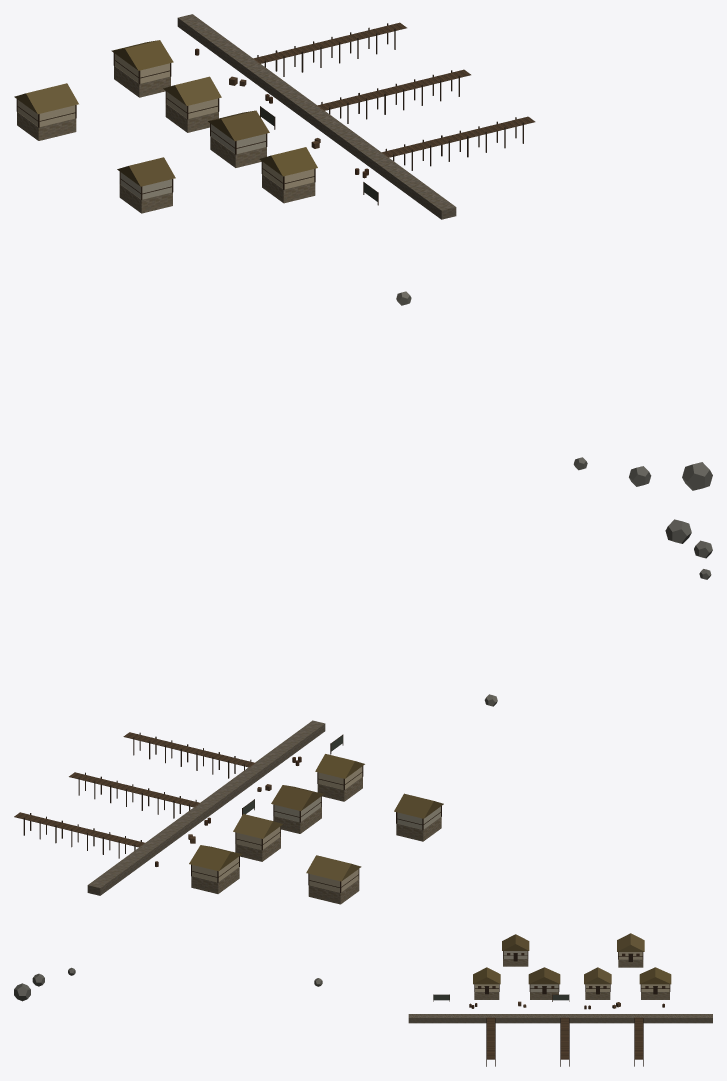
File: puerto.glb
The picture shows the model from 3 angles, top to bottom: view 1: azimuth 30°, elevation 25°; view 2: azimuth 150°, elevation 25°; view 3: azimuth 270°, elevation 25°; orthographic projection. The views are drawn at different scales.
Parts seen in each view (by area): view 1: puerto-1, puerto-0; view 2: puerto-1, puerto-0; view 3: puerto-1, puerto-0.
Boxes of the visible parts, <box> form: puerto-1: <box>14,22,712,490</box>; puerto-0: <box>17,14,456,219</box>; puerto-1: <box>14,519,712,892</box>; puerto-0: <box>87,720,441,904</box>; puerto-1: <box>14,933,671,1066</box>; puerto-0: <box>408,959,712,1023</box>.
Size of the model in its own units: 62.34 by 7.7 by 170.
2 materials, 1 textured.
